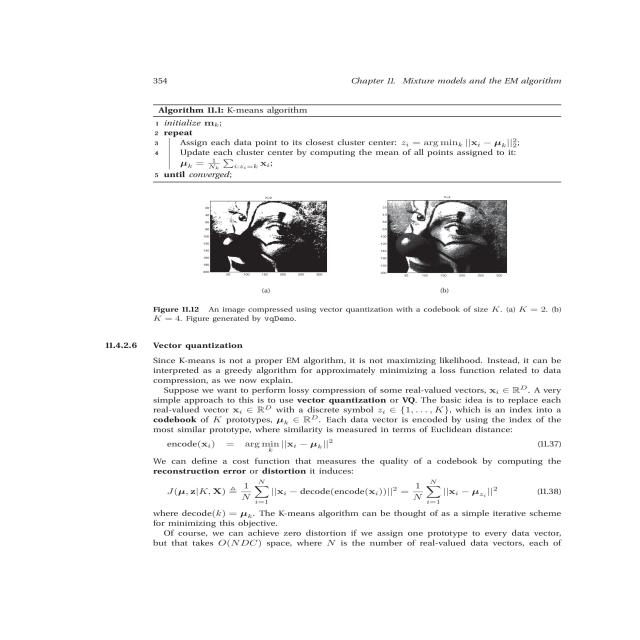diagram: (94, 183, 640, 341), (47, 161, 78, 172), (632, 76, 640, 77)
